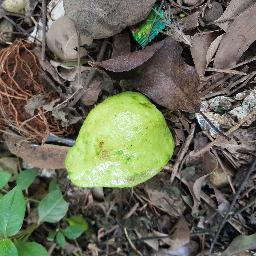Good_guava: (65, 88, 174, 193)
